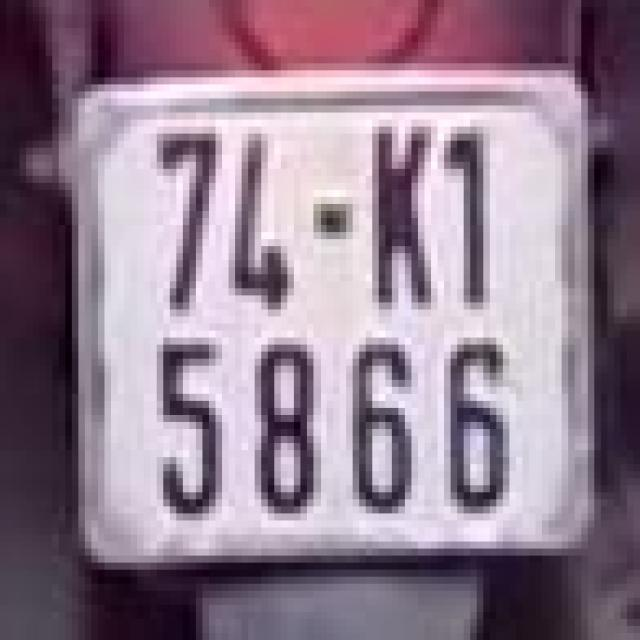1: (444, 109, 509, 327)
4: (229, 116, 307, 327)
5: (153, 324, 232, 520)
6: (434, 330, 519, 520), (333, 334, 418, 517)
7: (140, 109, 226, 327)
8: (245, 324, 323, 520)
K: (366, 109, 444, 306)
